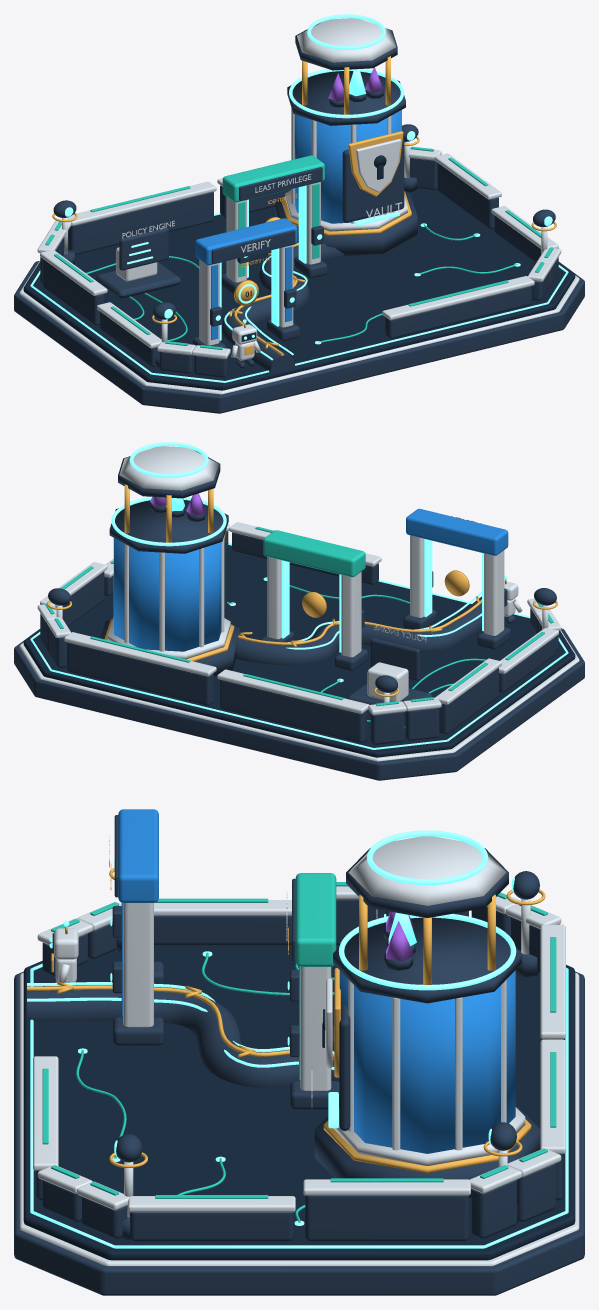
File: 09-zero-trust.glb
The picture shows the model from 3 angles, top to bottom: view 1: azimuth 30°, elevation 25°; view 2: azimuth 150°, elevation 25°; view 3: azimuth 270°, elevation 25°; orthographic projection. The views are drawn at different scales.
Parts seen in each view (by area): view 1: Cyan circuit floor, Citadel octagonal foundation, Secure vault tower, Segmented wall 04 1, Vault chamber dark sill, Vault crown tapered porcelain, Citadel silver reveal, Segmented wall 00 1, Identity route dark walkway, Vault reinforced portal, Vault octagonal foundation, Checkpoint 1 lintel (+34 smaller); view 2: Cyan circuit floor, Citadel octagonal foundation, Secure vault tower, Identity route dark walkway, Segmented wall 04 1, Segmented wall 04 0, Vault chamber dark sill, Vault crown tapered porcelain, Citadel silver reveal, Checkpoint 1 lintel, Checkpoint 2 lintel, Segmented wall 06 0 (+35 smaller); view 3: Cyan circuit floor, Secure vault tower, Citadel octagonal foundation, Vault chamber dark sill, Identity route dark walkway, Segmented wall 02 1, Vault crown tapered porcelain, Citadel silver reveal, Segmented wall 02 0, Segmented wall 06 1, Checkpoint 2 lintel, Identity checkpoint 1 armored jamb.001 (+49 smaller).
Boxes of the visible parts, x1,y1,x2,y2 form: Cyan circuit floor: (23,188,575,390); Citadel octagonal foundation: (14,261,584,413); Secure vault tower: (294,110,401,223); Segmented wall 04 1: (68,192,213,255); Vault chamber dark sill: (287,71,405,125); Vault crown tapered porcelain: (297,18,396,62); Citadel silver reveal: (19,260,579,394); Segmented wall 00 1: (385,286,531,338); Identity route dark walkway: (221,243,344,372); Vault reinforced portal: (342,138,404,222); Vault octagonal foundation: (275,191,417,255); Checkpoint 1 lintel: (195,218,297,265); Cyan circuit floor: (23,545,575,757); Citadel octagonal foundation: (14,628,584,780); Secure vault tower: (114,538,221,651); Identity route dark walkway: (236,596,481,665); Segmented wall 04 1: (220,679,366,743); Segmented wall 04 0: (67,642,213,705); Vault chamber dark sill: (109,499,228,553); Vault crown tapered porcelain: (119,446,218,490); Citadel silver reveal: (19,630,579,761); Checkpoint 1 lintel: (406,508,508,555); Checkpoint 2 lintel: (263,530,365,577); Segmented wall 06 0: (439,668,498,734); Cyan circuit floor: (23,944,575,1260); Secure vault tower: (339,970,515,1153); Citadel octagonal foundation: (14,971,584,1295); Vault chamber dark sill: (333,917,521,1003); Identity route dark walkway: (27,990,339,1087); Segmented wall 02 1: (305,1195,468,1241); Vault crown tapered porcelain: (348,836,506,905); Citadel silver reveal: (19,972,579,1266); Segmented wall 02 0: (130,1212,293,1241); Segmented wall 06 1: (154,916,291,945); Checkpoint 2 lintel: (295,873,336,966); Identity checkpoint 1 armored jamb.001: (123,903,153,1027).
Bounding box in the file's own units: 12.01 × 5.74 × 8.69.
